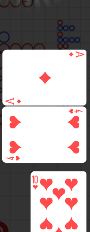10H: (31, 175, 39, 191)
4H: (67, 108, 83, 115)
AD: (67, 51, 85, 59)
